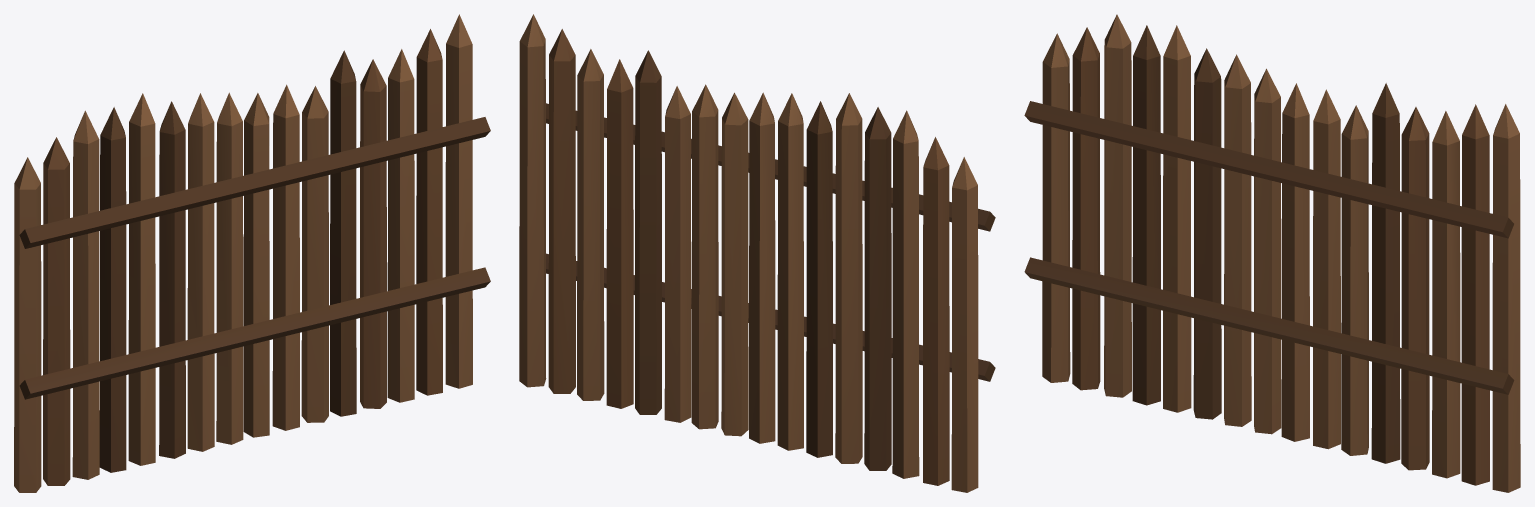
Rendered from fence_segment_low.glb.
3 renders of one model, left to right at view 1: azimuth 30°, elevation 25°; view 2: azimuth 150°, elevation 25°; view 3: azimuth 330°, elevation 25°, orthographic. The views are drawn at different scales.
Bounding box in the file's own units: 2.4 × 1.84 × 0.22.
